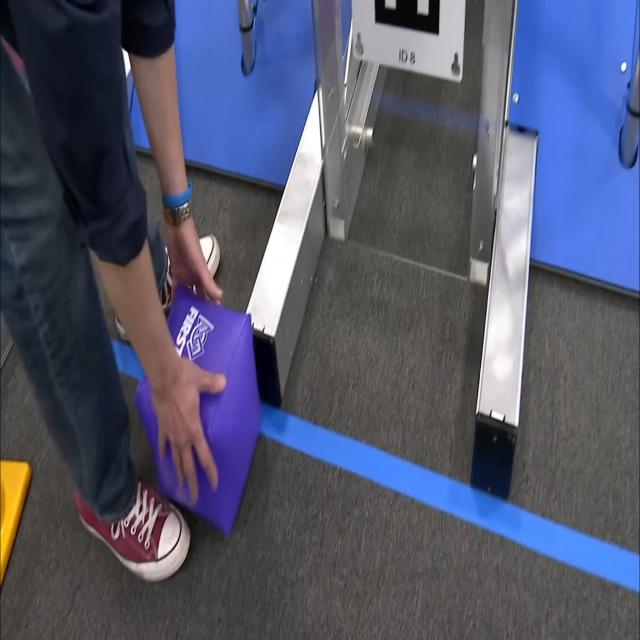frc_cone: (0, 441, 33, 592)
frc_cube: (132, 286, 266, 538)
